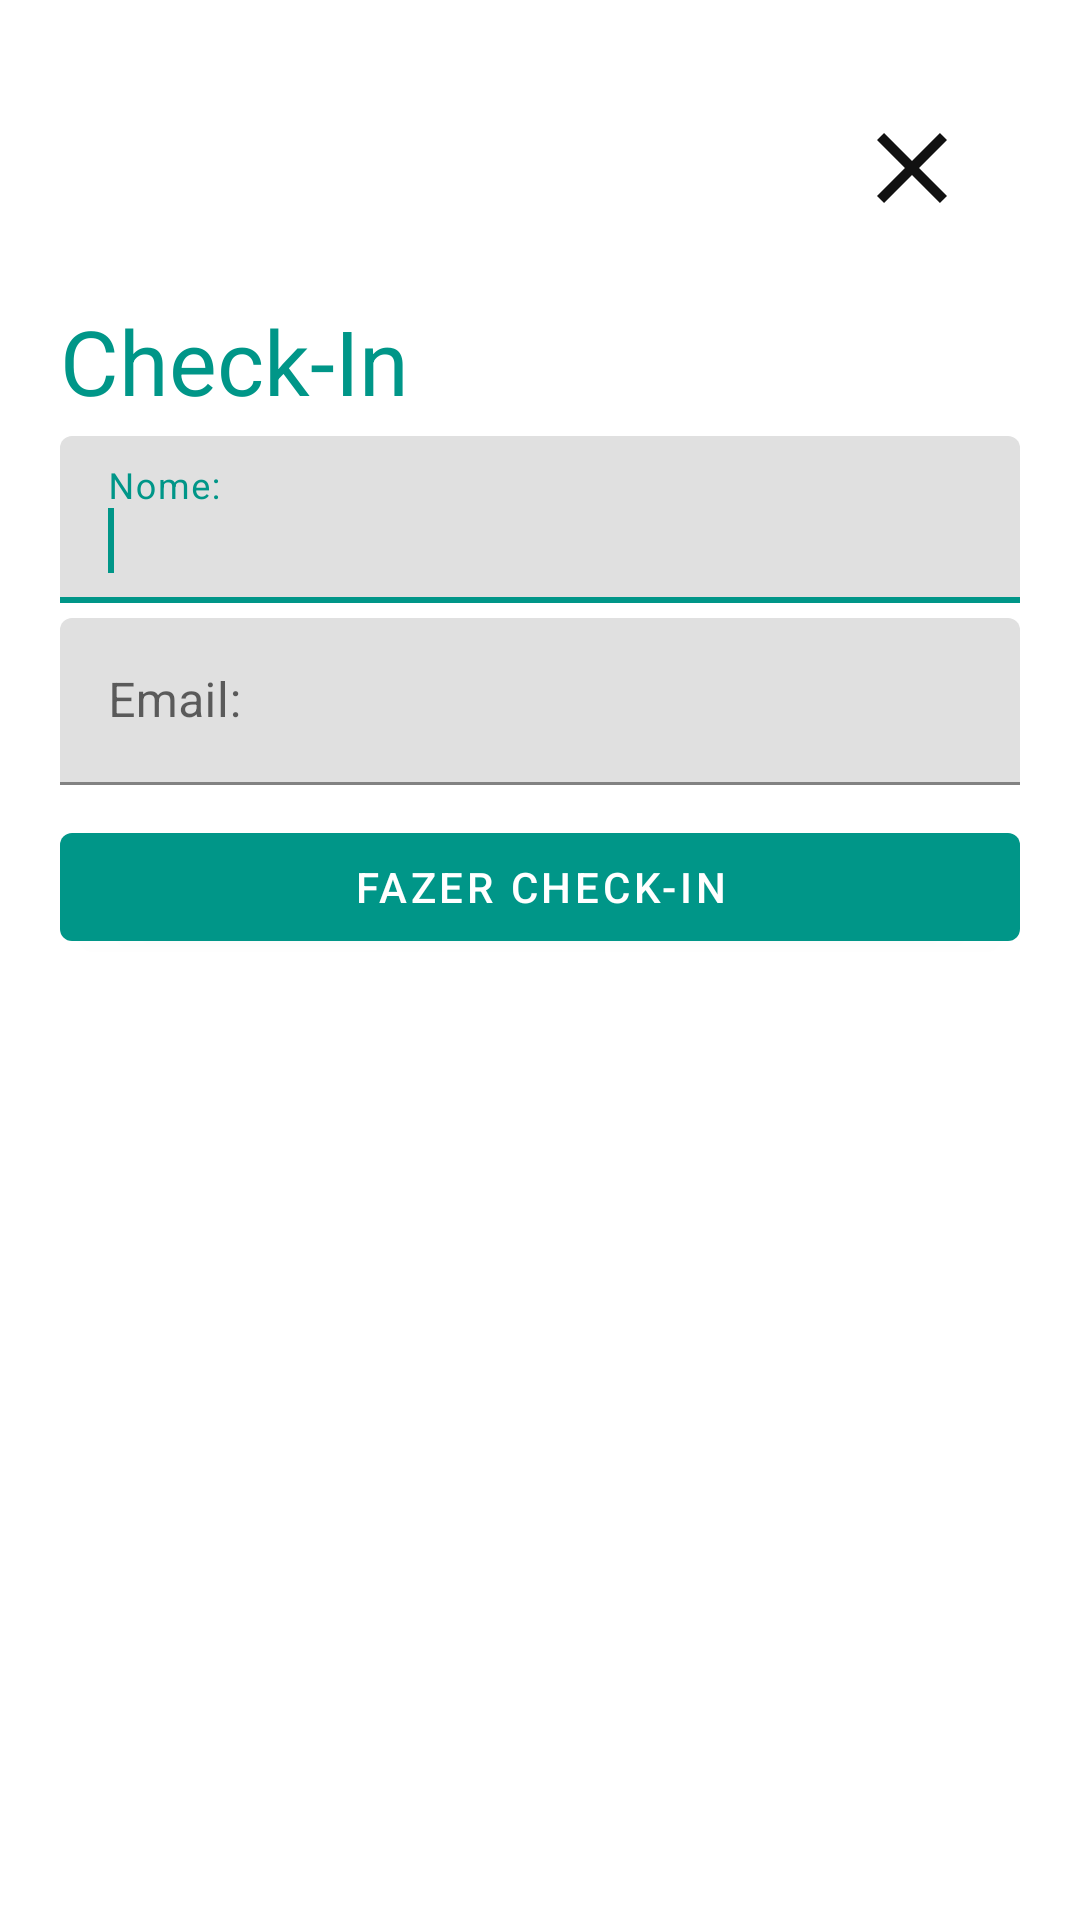

Where to tap for icons on this 1080w x 1920h app screen, as [x,y]:
Close: [912,168]
